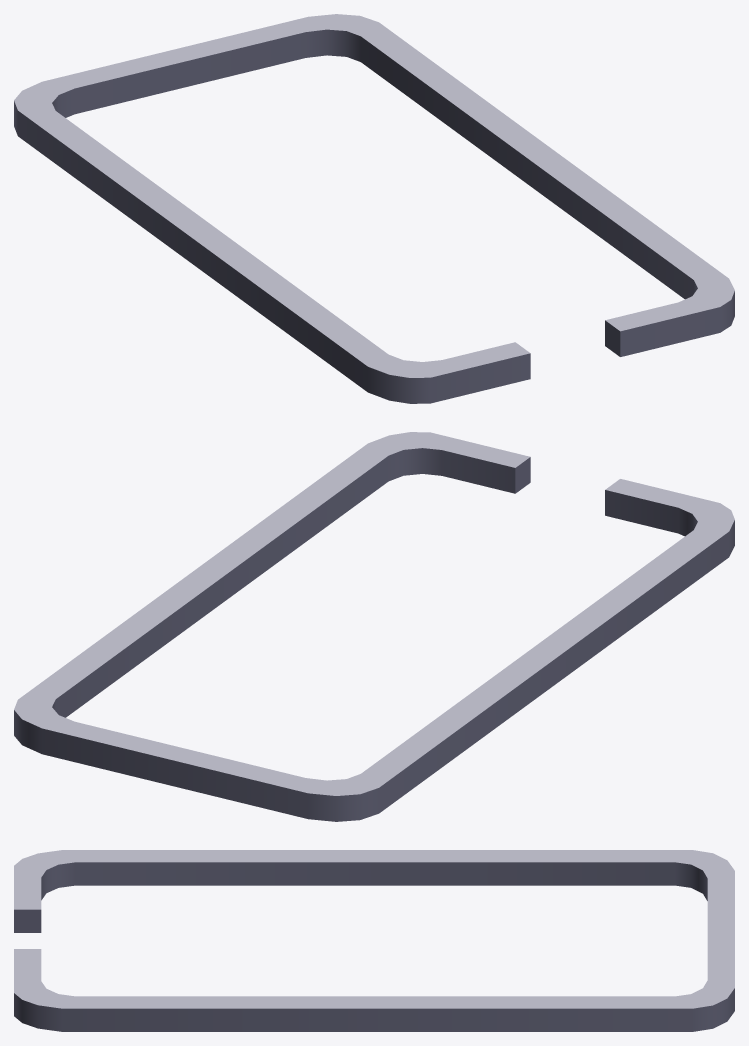
Rendered from Car_P.fbx.
3 renders of one model, top to bottom at view 1: azimuth 30°, elevation 25°; view 2: azimuth 150°, elevation 25°; view 3: azimuth 270°, elevation 25°, orthographic. The views are drawn at different scales.
Visible parts, largest first — view 1: Car_P_01; view 2: Car_P_01; view 3: Car_P_01.
Part boxes in pixels (x1=…): Car_P_01: x1=14, y1=14, x2=734, y2=403; Car_P_01: x1=14, y1=432, x2=734, y2=821; Car_P_01: x1=14, y1=850, x2=734, y2=1031.
Bounding box in the file's own units: 0.3449 × 0.0236 × 0.6623.
